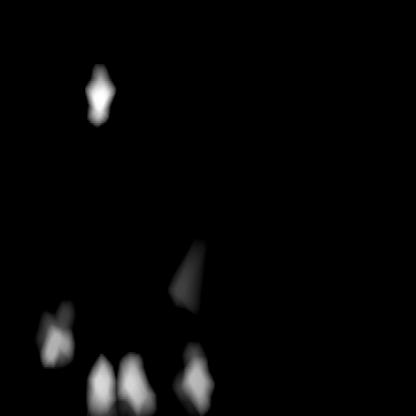fingers: (85, 59, 112, 125)
palm: (37, 302, 214, 414)
